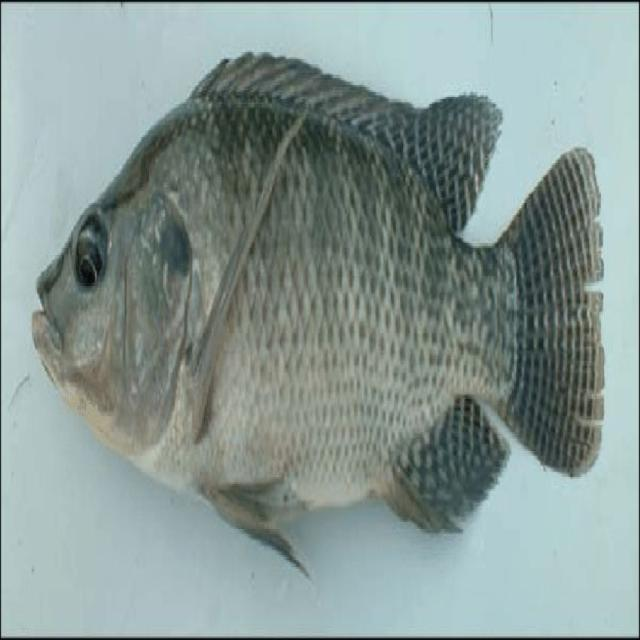ikan: (22, 26, 616, 585)
